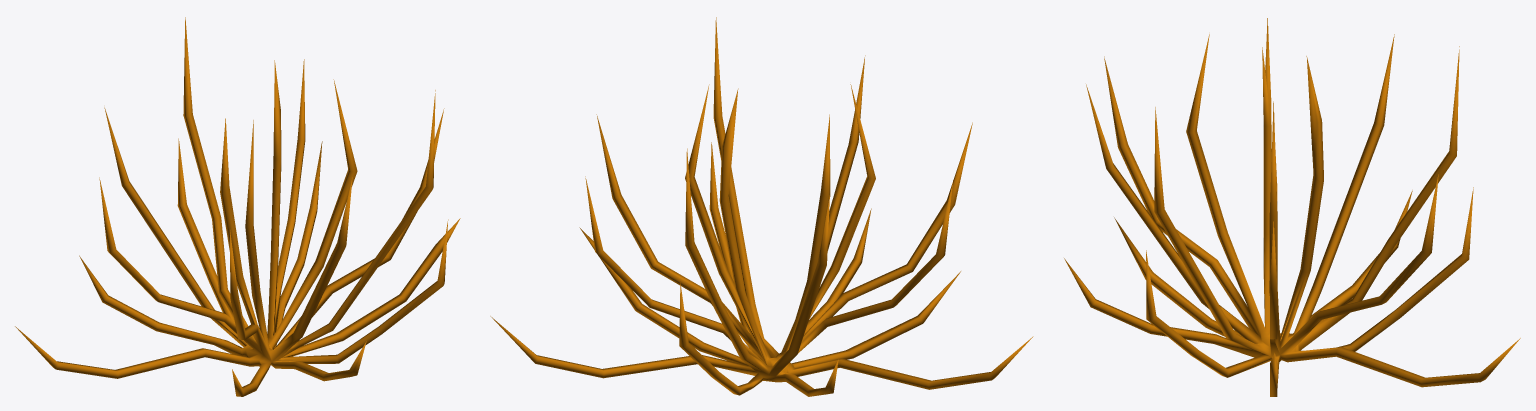
The picture shows the model from 3 angles, left to right: view 1: azimuth 30°, elevation 25°; view 2: azimuth 150°, elevation 25°; view 3: azimuth 270°, elevation 25°; orthographic projection. The views are drawn at different scales.
Visible parts, largest first — view 1: Thumbleweed.000; view 2: Thumbleweed.000; view 3: Thumbleweed.000.
Part boxes in pixels (left/top/right/bottom): Thumbleweed.000: left=15, top=17, right=460, bottom=396; Thumbleweed.000: left=490, top=17, right=1033, bottom=396; Thumbleweed.000: left=1064, top=18, right=1520, bottom=396.
Bounding box in the file's own units: 5.82 × 3.6 × 4.73.
